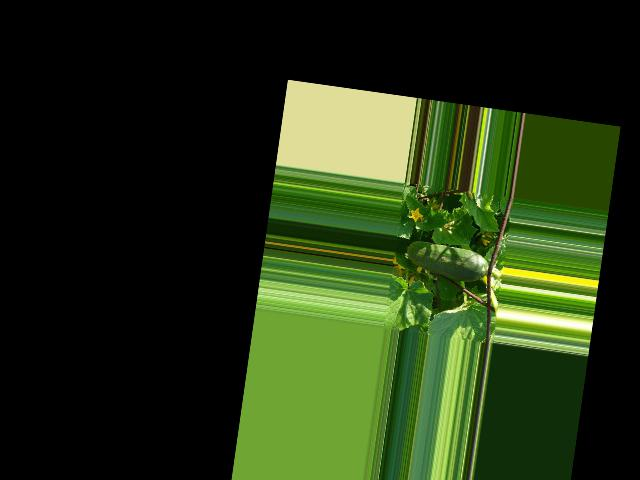cucumber: (403, 239, 490, 285)
